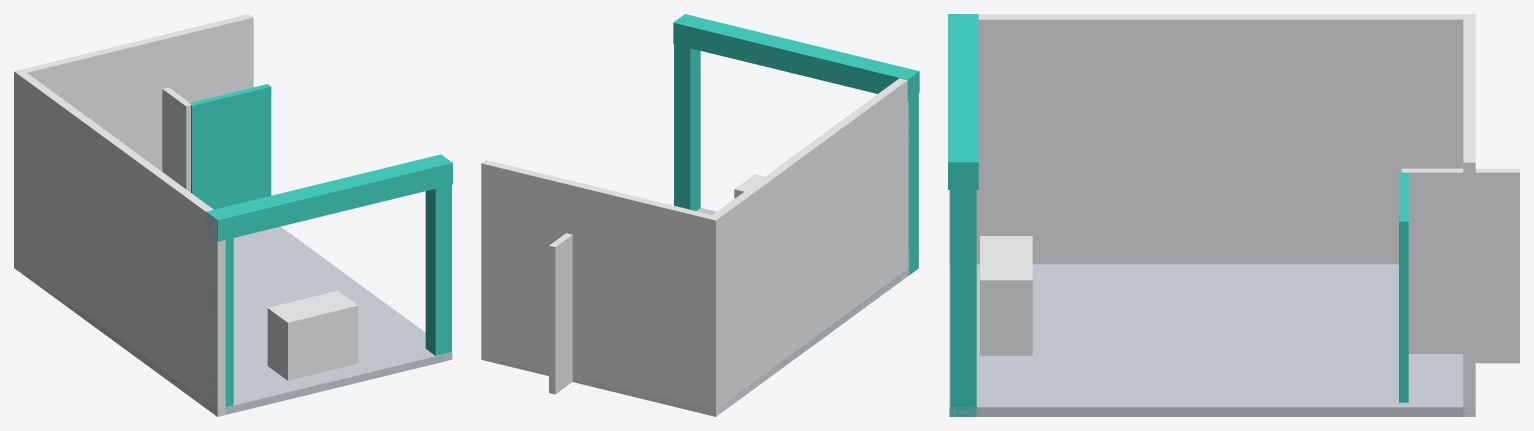
3 renders of one model, left to right at view 1: azimuth 30°, elevation 25°; view 2: azimuth 150°, elevation 25°; view 3: azimuth 270°, elevation 25°, orthographic. The views are drawn at different scales.
Parts seen in each view (by area): view 1: Exhibition Booth Concept; view 2: Exhibition Booth Concept; view 3: Exhibition Booth Concept.
Boxes of the visible parts, box(x1,y1,x2,y2) form: Exhibition Booth Concept: box(14, 14, 452, 416); Exhibition Booth Concept: box(481, 14, 919, 416); Exhibition Booth Concept: box(948, 14, 1519, 416).
Size of the model in its own units: 4 by 3.2 by 6.52.
